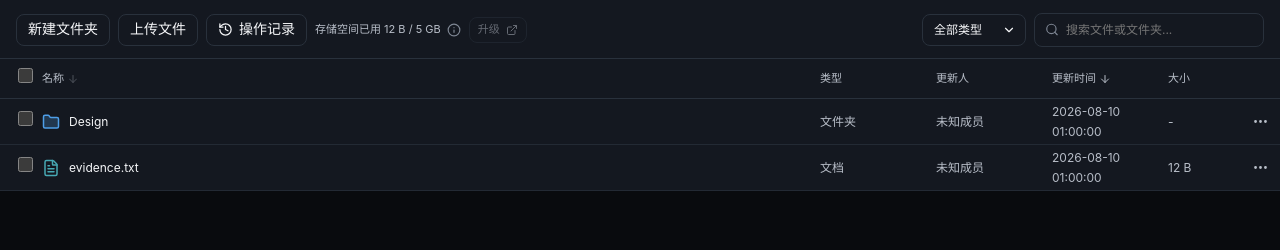
Test: project asset directory interactions › tracks individual and select-all state through accessible checkboxes
Expected: the text "evidence.txt" is shown, x1=69 y1=158 x2=139 y2=177
Click the checkbox named "选择 evidence.txt" at x=26, y=165, box x1=18 y1=157 x2=33 y2=172
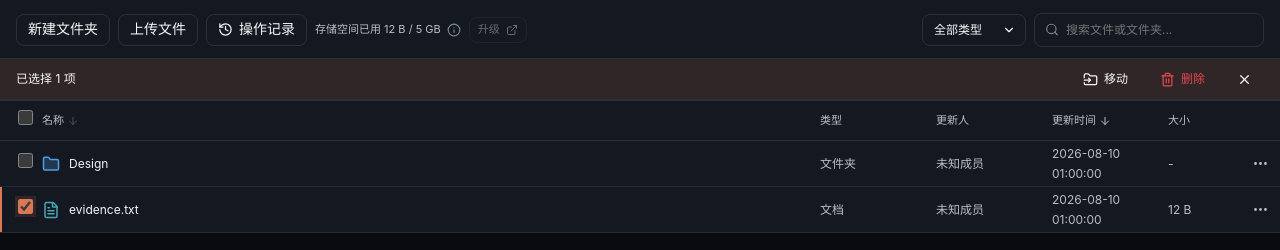
Now the checkbox named "选择 evidence.txt" is checked, box x1=18 y1=199 x2=33 y2=214
Now the message shows "已选择 1 项", box x1=0 y1=58 x2=1279 y2=100
Click the checkbox named "选择 Design" at x=26, y=161, box x1=18 y1=153 x2=33 y2=168
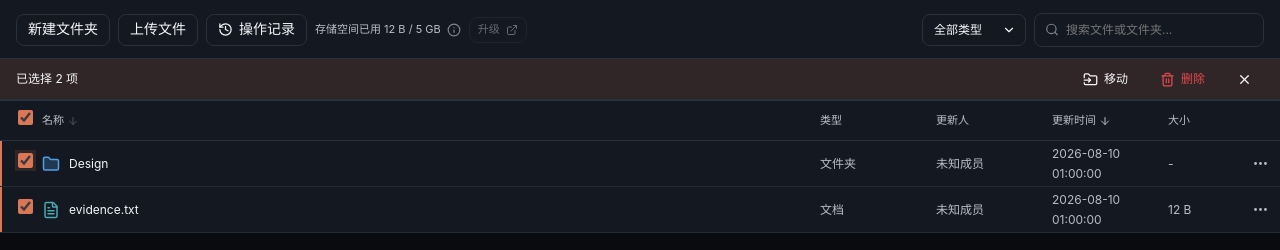
Now the message shows "已选择 2 项", box x1=0 y1=58 x2=1279 y2=100
Now the checkbox named "选择全部文件" is checked, box x1=18 y1=110 x2=33 y2=125
Click the button named "清除选择" at x=1244, y=79, box x1=1225 y1=64 x2=1264 y2=94
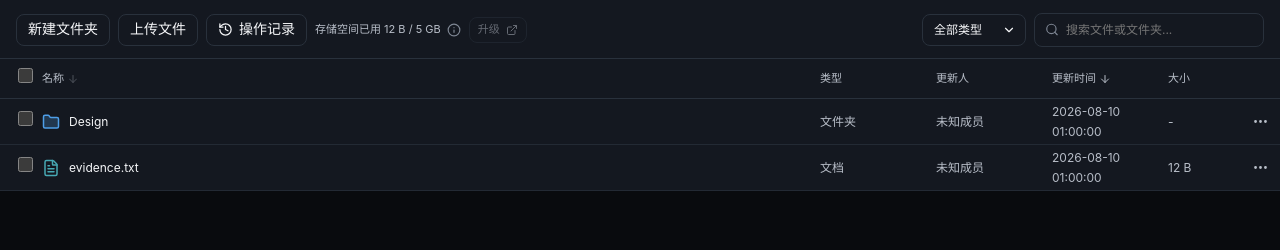
Now the checkbox named "选择 evidence.txt" is not checked, box x1=18 y1=157 x2=33 y2=172
Now the checkbox named "选择 Design" is not checked, box x1=18 y1=111 x2=33 y2=126
Now the text "已选择" is gone
